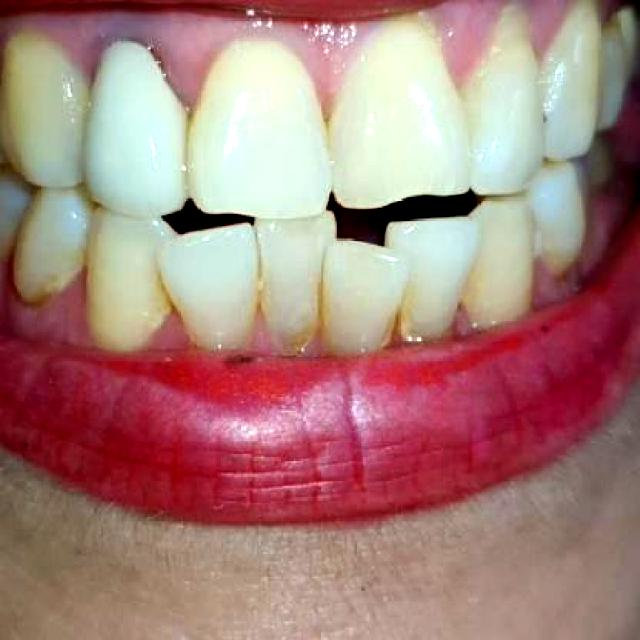Plaque: (148, 314, 190, 351), (383, 316, 415, 350), (542, 111, 553, 127)
